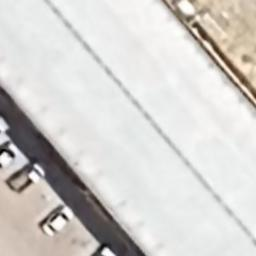pickup: (4, 159, 50, 195)
sedan: (39, 203, 75, 239), (0, 140, 20, 173)
